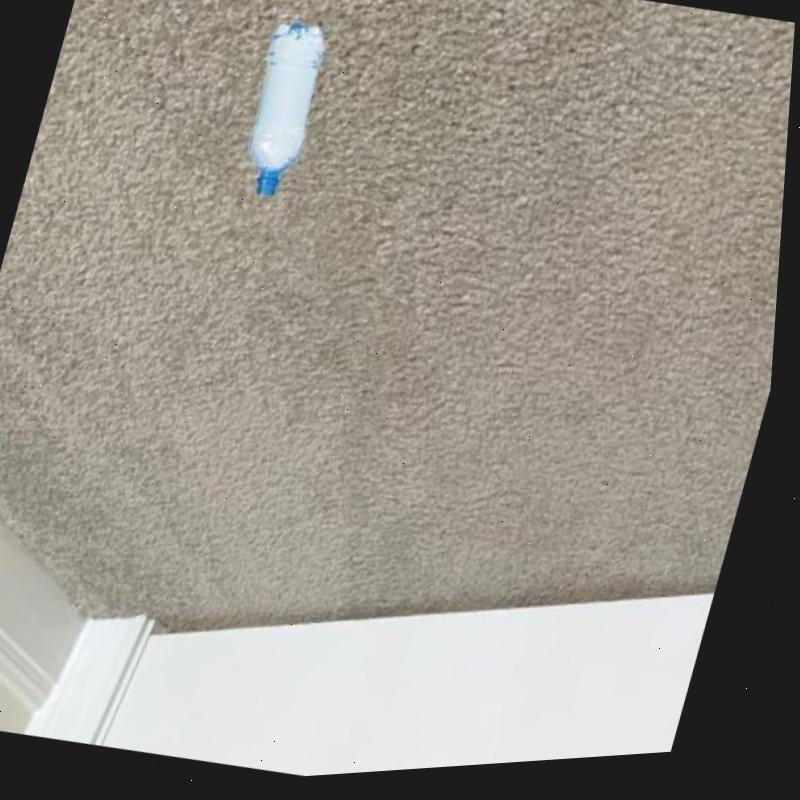botella: (230, 19, 339, 208)
